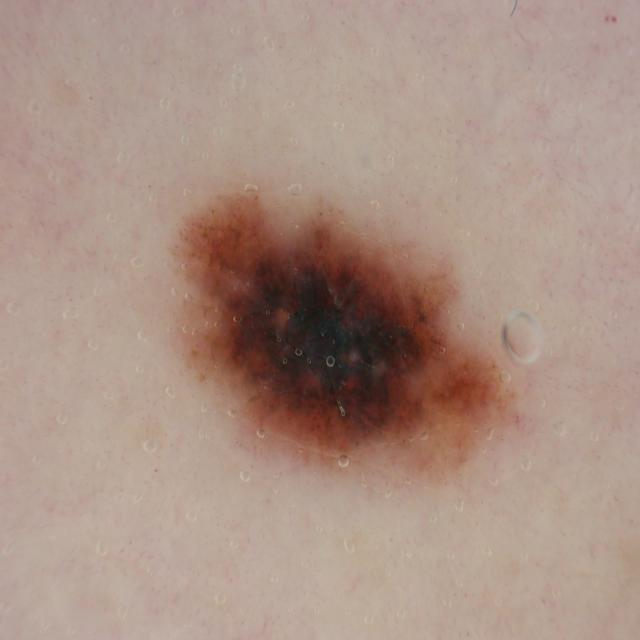Melanoma: (176, 185, 529, 489)
